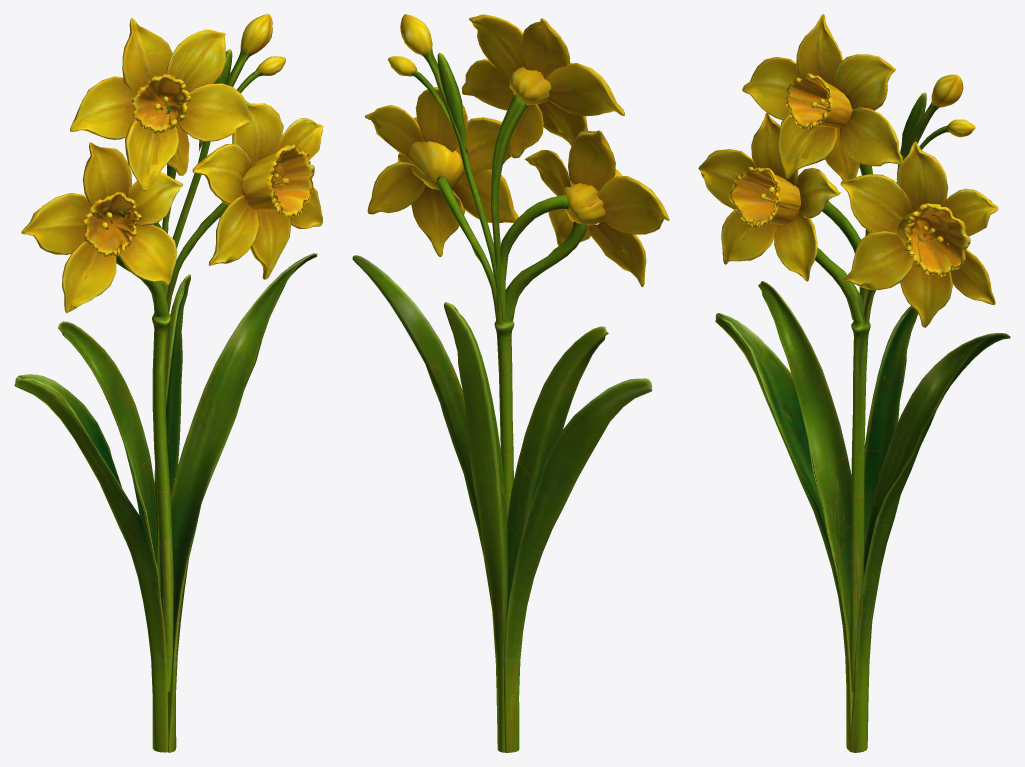
The model's file is jonquil.glb.
3 views of the same model, side by side, from view 1: azimuth 30°, elevation 25°; view 2: azimuth 150°, elevation 25°; view 3: azimuth 330°, elevation 25° (orthographic).
Parts seen in each view (by area): view 1: geometry_0; view 2: geometry_0; view 3: geometry_0.
Part boxes in pixels (left/top/right/bottom): geometry_0: left=14, top=14, right=323, bottom=752; geometry_0: left=352, top=14, right=669, bottom=752; geometry_0: left=698, top=14, right=1010, bottom=752.
Size of the model in its own units: 0.4136 by 0.9512 by 0.1147.
1 material, 1 textured.
